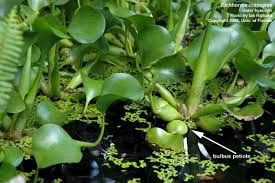water_hyacinth: (31, 7, 273, 166)
